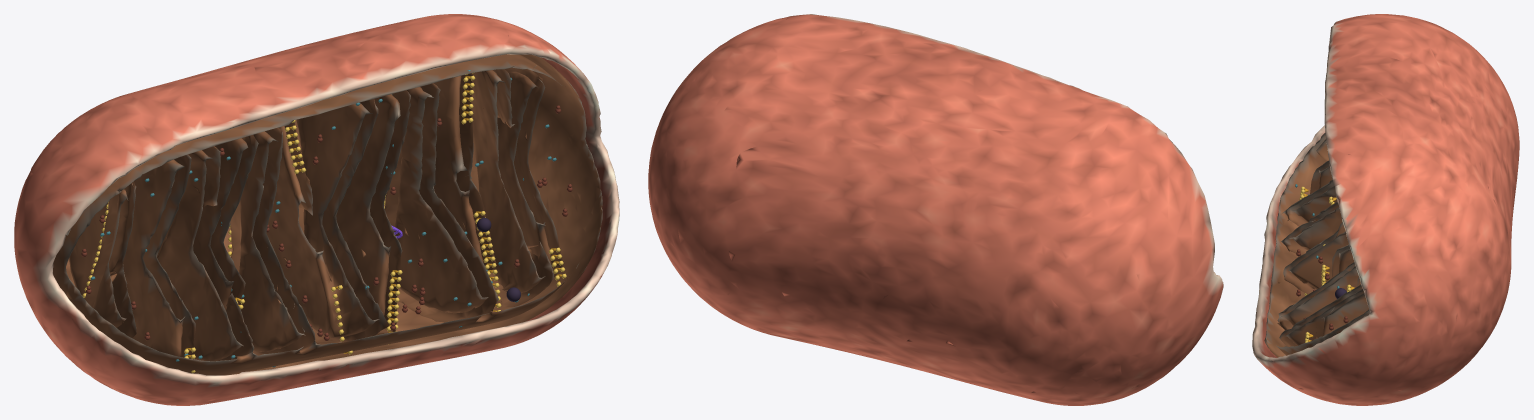
Rendered from mitocondria-aberta.glb.
The picture shows the model from 3 angles, left to right: view 1: azimuth 30°, elevation 25°; view 2: azimuth 150°, elevation 25°; view 3: azimuth 270°, elevation 25°; orthographic projection. The views are drawn at different scales.
Parts seen in each view (by area): view 1: membrana_interna_e_cristas, membrana_externa, atp_sintase, ribossomos, atp_sintase_haste, cadeia_respiratoria; view 2: membrana_externa; view 3: membrana_externa, membrana_interna_e_cristas, atp_sintase.
Part boxes in pixels (x1,y1,x2,y2): membrana_interna_e_cristas: (53, 54, 602, 375); membrana_externa: (14, 14, 619, 405); atp_sintase: (82, 72, 566, 372); ribossomos: (81, 105, 572, 340); atp_sintase_haste: (186, 76, 561, 357); cadeia_respiratoria: (91, 70, 556, 367); membrana_externa: (648, 14, 1223, 405); membrana_externa: (1252, 14, 1519, 405); membrana_interna_e_cristas: (1264, 132, 1369, 357); atp_sintase: (1299, 186, 1350, 342).
Bounding box in the file's own units: 0.3957 × 0.209 × 0.1937.
